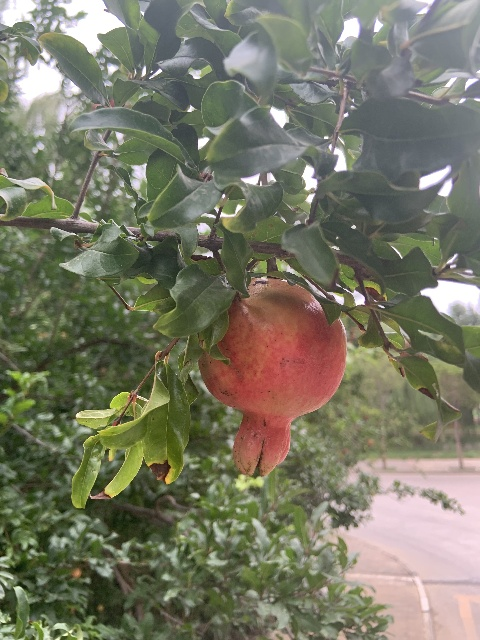ripe: (197, 278, 347, 477)
